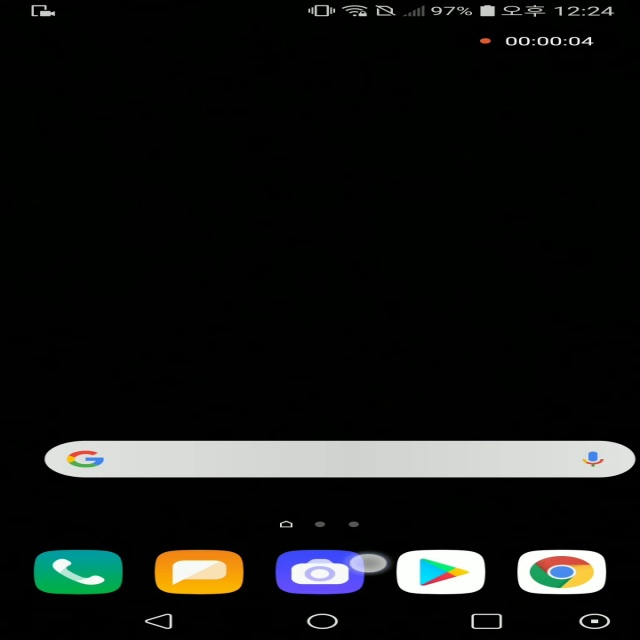Cursor: (346, 553, 391, 575)
